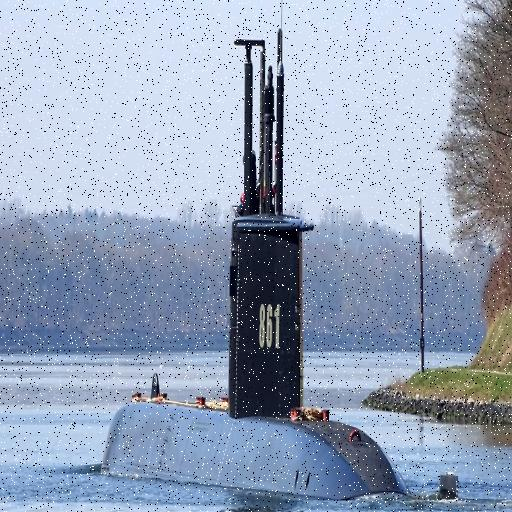submarine: (104, 1, 458, 502)
